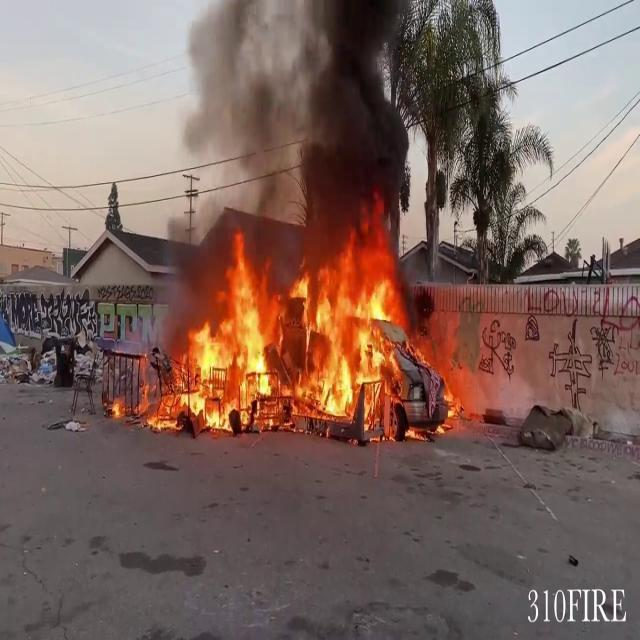Fire: (138, 233, 414, 435)
Smoke: (160, 0, 414, 253)
